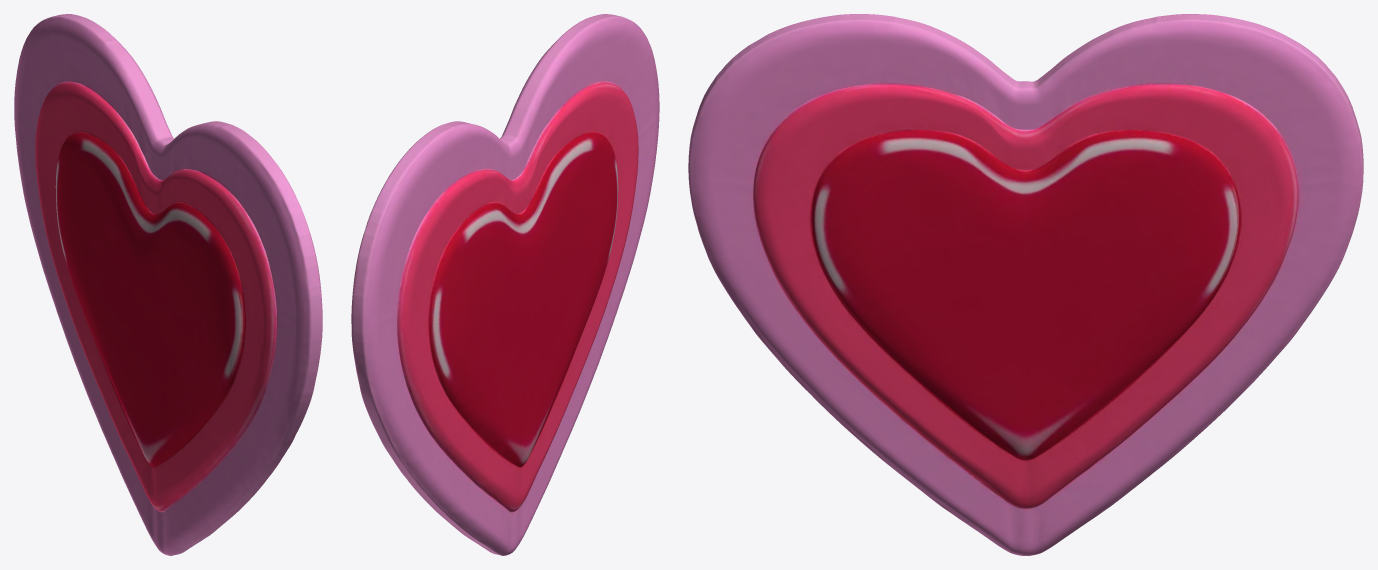
The model's file is heart.glb.
The picture shows the model from 3 angles, left to right: view 1: azimuth 30°, elevation 25°; view 2: azimuth 150°, elevation 25°; view 3: azimuth 270°, elevation 25°; orthographic projection. The views are drawn at different scales.
Visible parts, largest first — view 1: tripo_node_c21e3871-c0ad-408e-9d1f-6e780aa47c90; view 2: tripo_node_c21e3871-c0ad-408e-9d1f-6e780aa47c90; view 3: tripo_node_c21e3871-c0ad-408e-9d1f-6e780aa47c90.
Part boxes in pixels (box(x1,y1,x2,y2)): tripo_node_c21e3871-c0ad-408e-9d1f-6e780aa47c90: box(14, 14, 322, 555); tripo_node_c21e3871-c0ad-408e-9d1f-6e780aa47c90: box(351, 14, 659, 555); tripo_node_c21e3871-c0ad-408e-9d1f-6e780aa47c90: box(688, 14, 1363, 555).
Size of the model in its own units: 0.1029 by 0.8777 by 1.
1 material, 1 textured.
